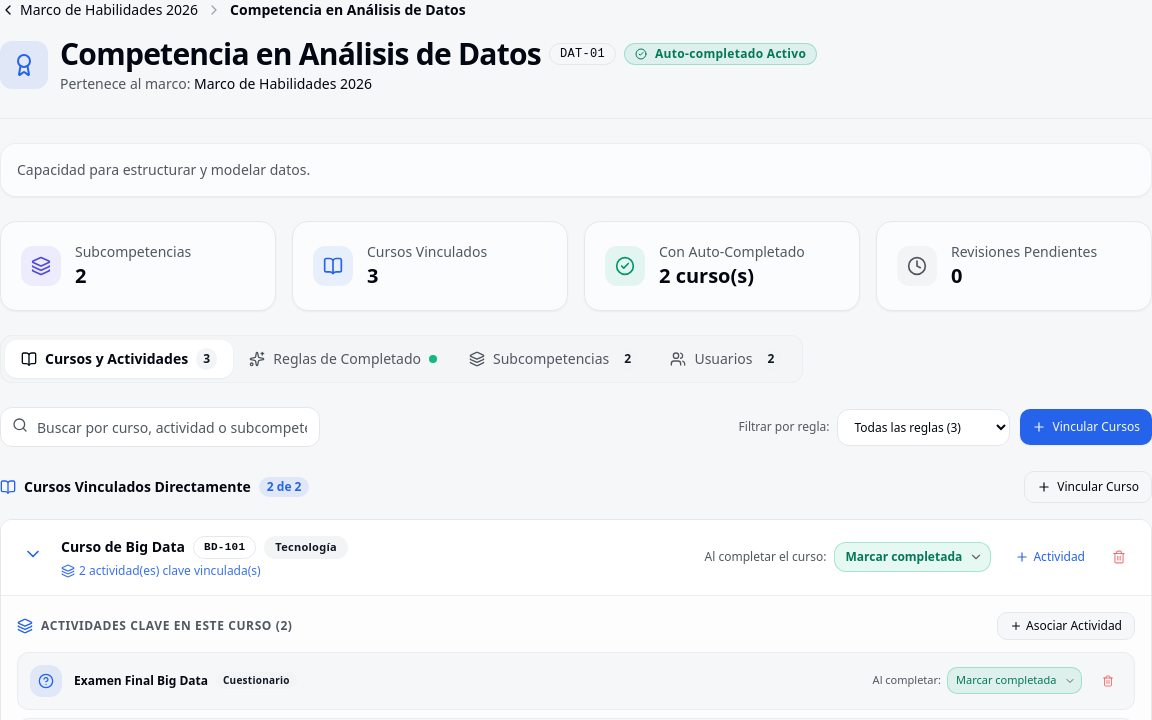
it: CompetencyDetailView › does not render "Ver" button in KPI card and moves "Revisiones Pendientes" button to Users tab with pending reviews column
Check: the heading "Competencia en Análisis de Datos" is shown, box [60, 36, 541, 72]
Check: the button "Vincular Cursos" is shown, box [1020, 409, 1151, 445]
Switch to Users tab
Click the button "Usuarios 2".
click(726, 359)  # box [654, 340, 798, 378]
(page scrolled)
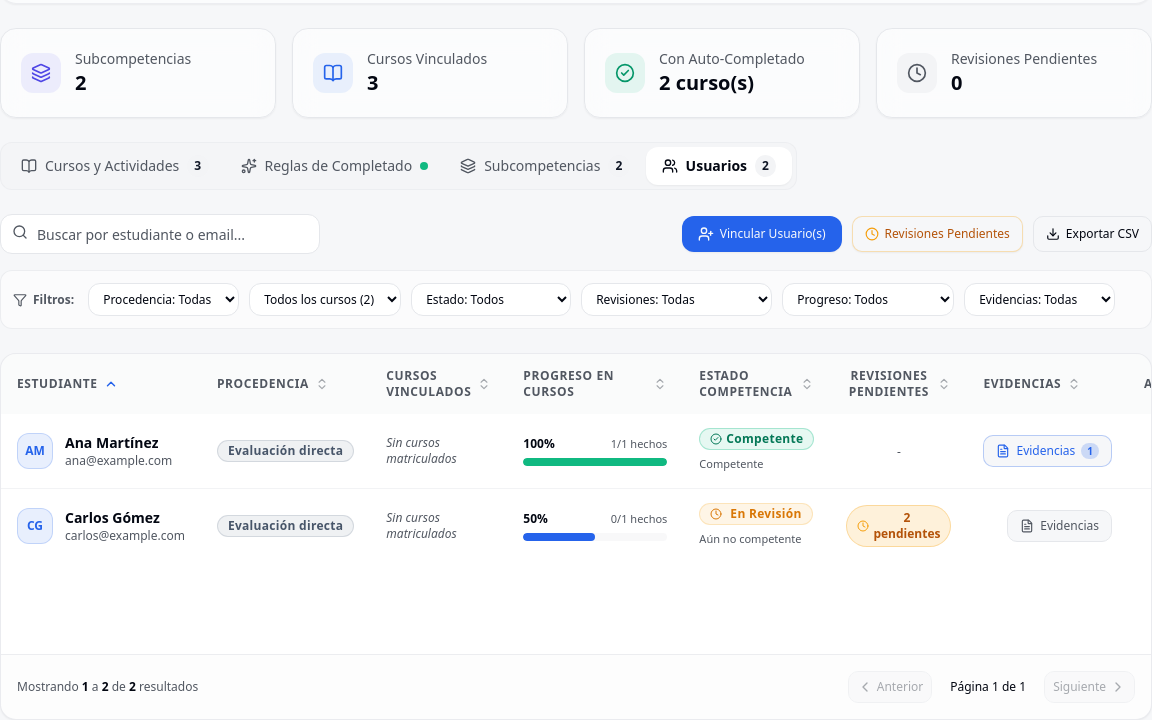
Check: the button "Revisiones Pendientes" is shown, box [852, 216, 1023, 252]
Check: the column heading "Revisiones Pendientes" is shown, box [830, 354, 968, 414]
Check: the text "2 pendientes" is shown, box [873, 510, 940, 542]
